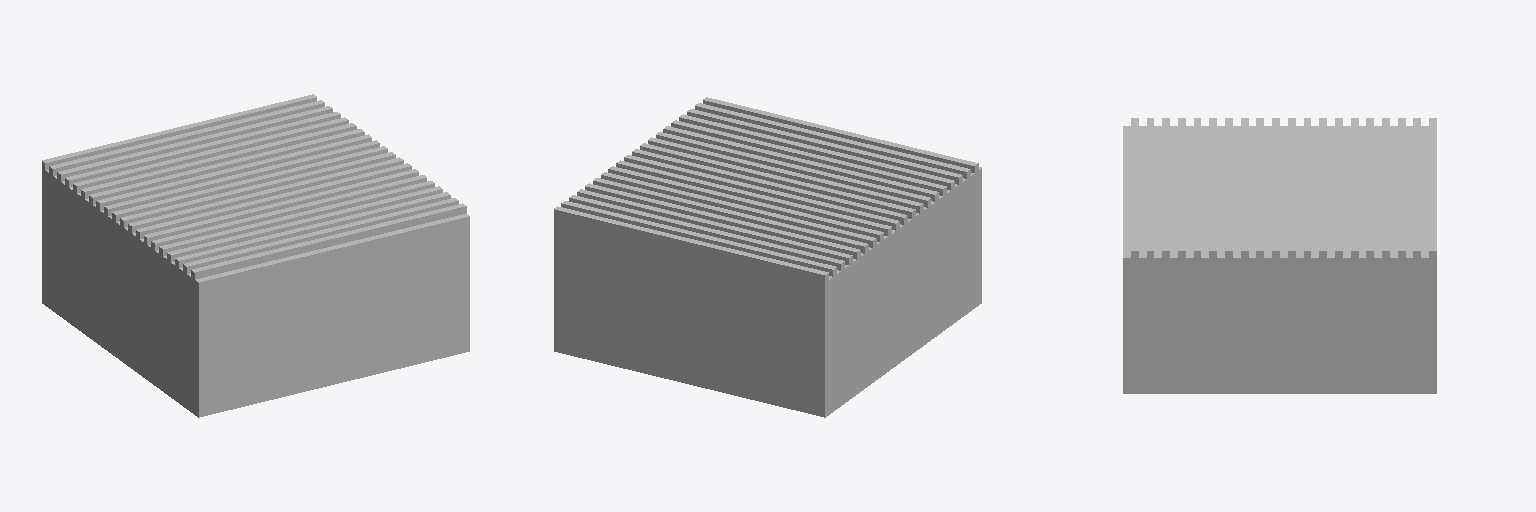
The model's file is road.obj.
The picture shows the model from 3 angles: view 1: azimuth 30°, elevation 25°; view 2: azimuth 150°, elevation 25°; view 3: azimuth 270°, elevation 25°; orthographic projection.
Visible parts, largest first — view 1: road; view 2: road; view 3: road.
Part boxes in pixels (left/top/right/bottom): road: left=42, top=94, right=469, bottom=417; road: left=554, top=97, right=981, bottom=417; road: left=1123, top=118, right=1436, bottom=393.
Size of the model in its own units: 40 by 20 by 40.